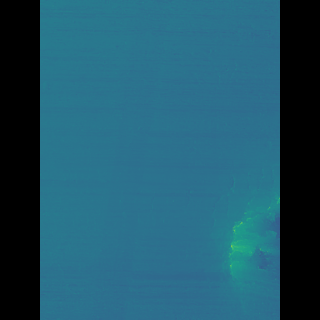Loch: (167, 168, 250, 305)
